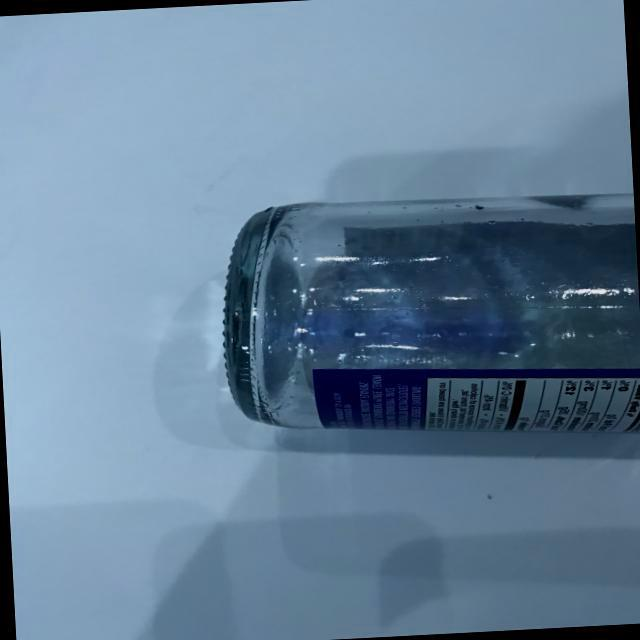glass: (194, 158, 640, 463)
